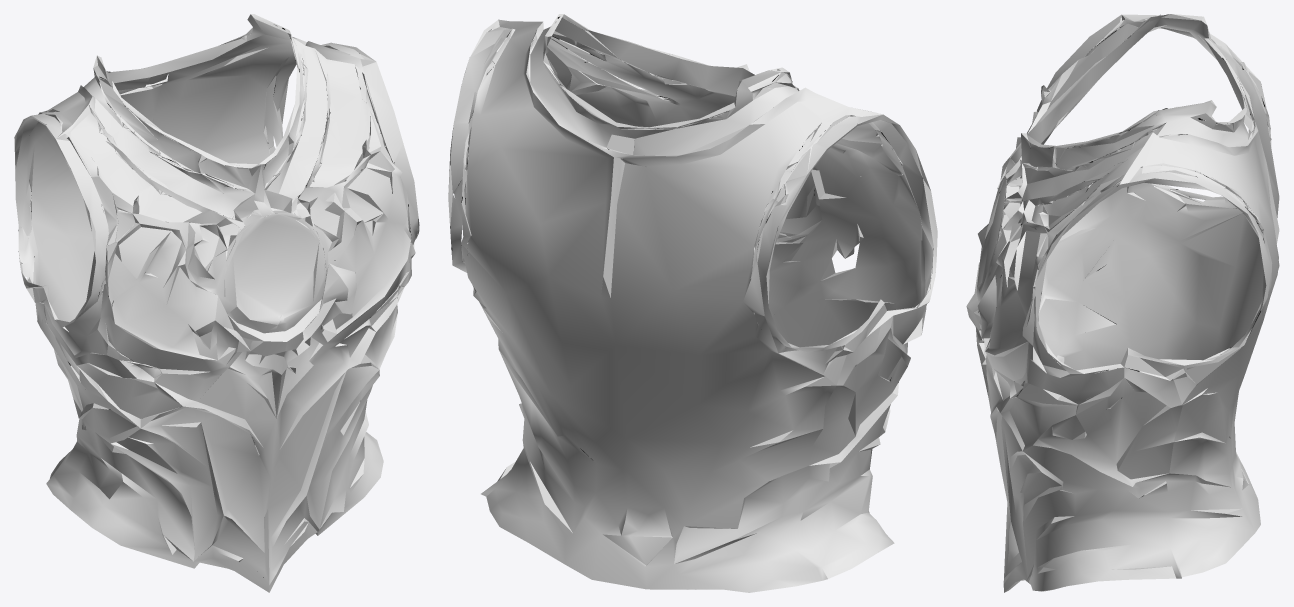
Rendered from vampire_chestplate_v3_lc_LOD1.glb.
The picture shows the model from 3 angles, left to right: view 1: azimuth 30°, elevation 25°; view 2: azimuth 150°, elevation 25°; view 3: azimuth 270°, elevation 25°; orthographic projection. The views are drawn at different scales.
Visible parts, largest first — view 1: vampire_chestplate_v3_lc_LOD1; view 2: vampire_chestplate_v3_lc_LOD1; view 3: vampire_chestplate_v3_lc_LOD1.
Part boxes in pixels (box(x1,y1,x2,y2)): vampire_chestplate_v3_lc_LOD1: box(14, 14, 419, 592); vampire_chestplate_v3_lc_LOD1: box(448, 14, 937, 592); vampire_chestplate_v3_lc_LOD1: box(966, 14, 1279, 592).
Bounding box in the file's own units: 0.7236 × 0.9656 × 0.5133.
1 material, 1 textured.
